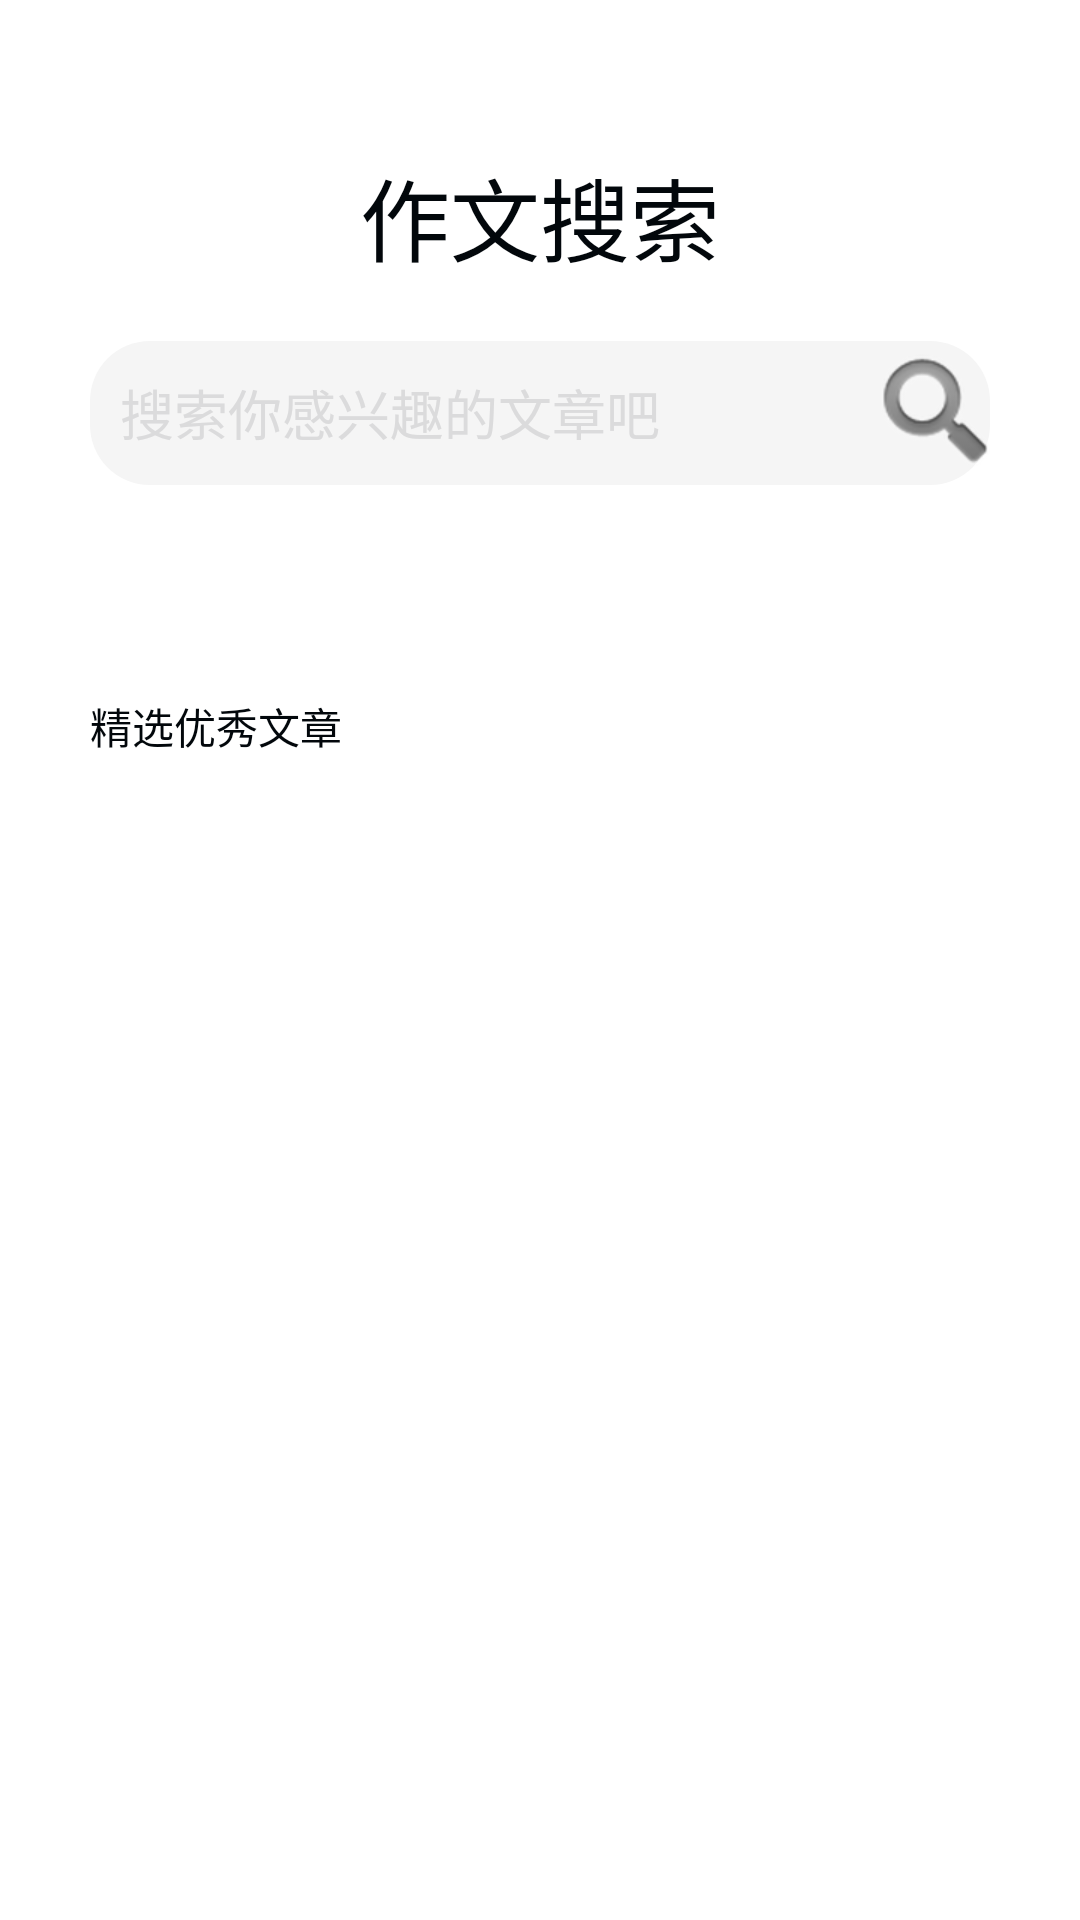

Icon bounding boxes for this 1080×1920 phone screenshot, format (x1, y1, x2, y2):
search category: (883, 358, 987, 462)
